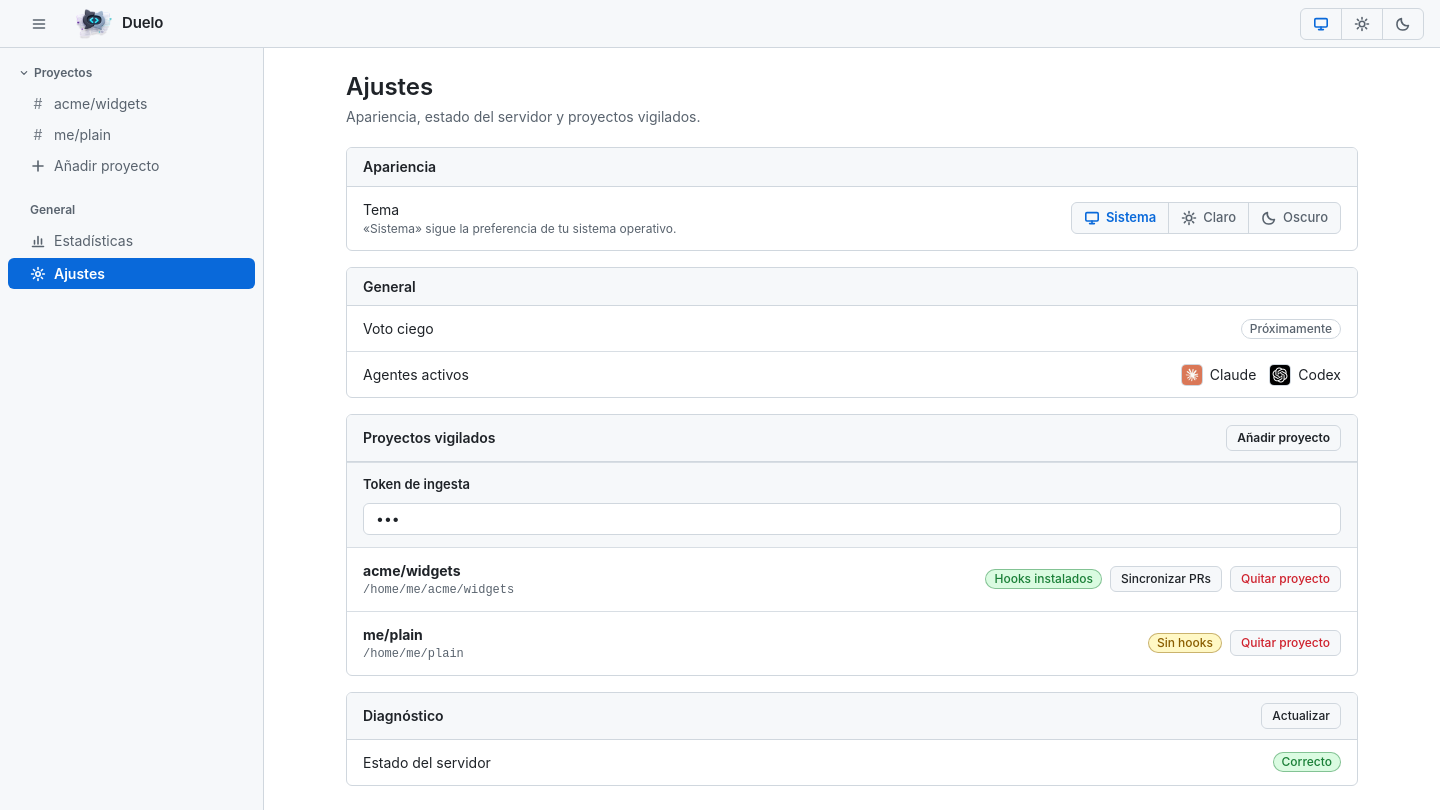
Test case: project settings › removes the project once confirmed and updates the list and the sidebar
Click the button with aria-label "Quitar proyecto acme/widgets": point(1286, 579) x1=1230 y1=566 x2=1341 y2=592
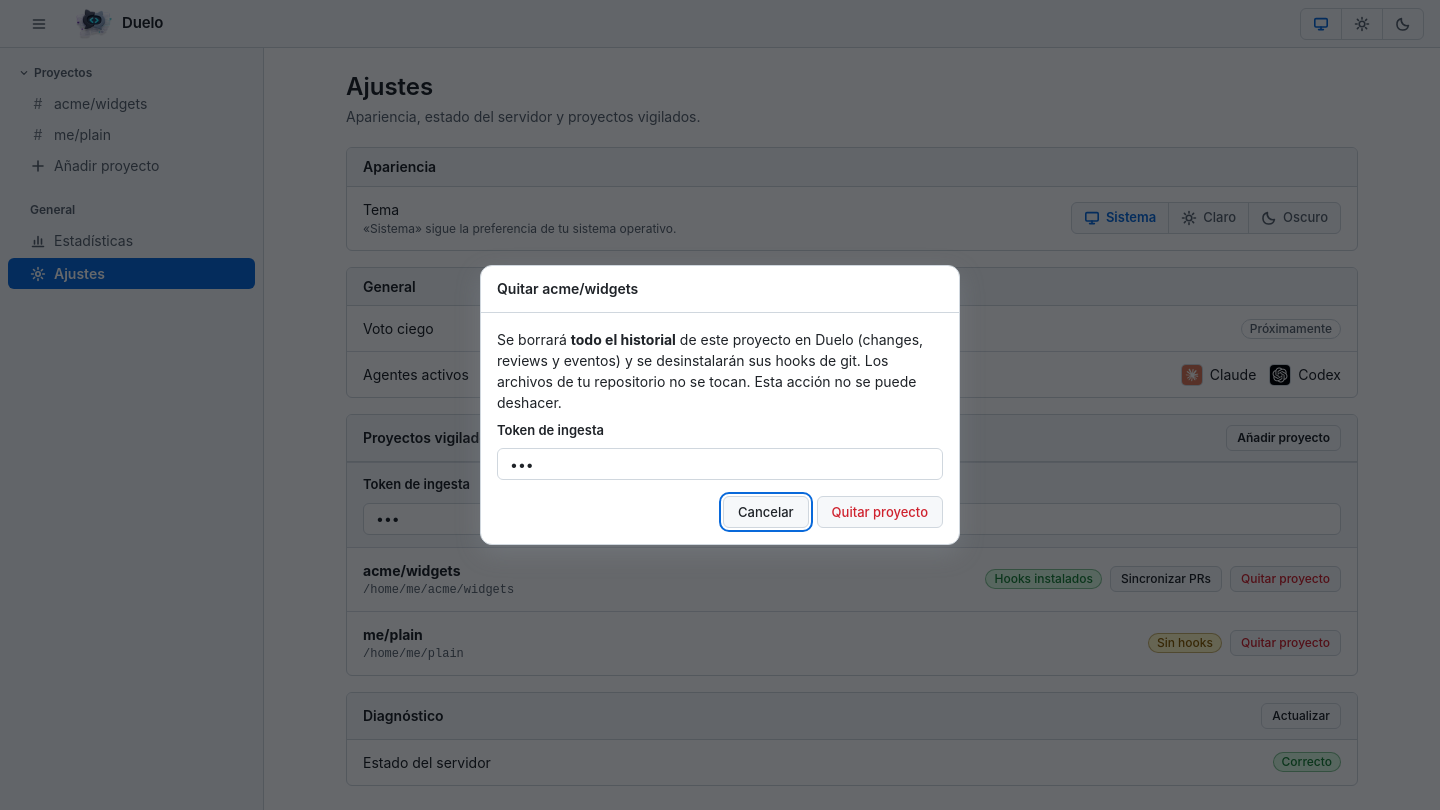
Click the button "Quitar proyecto": point(880, 512) x1=817 y1=496 x2=943 y2=528
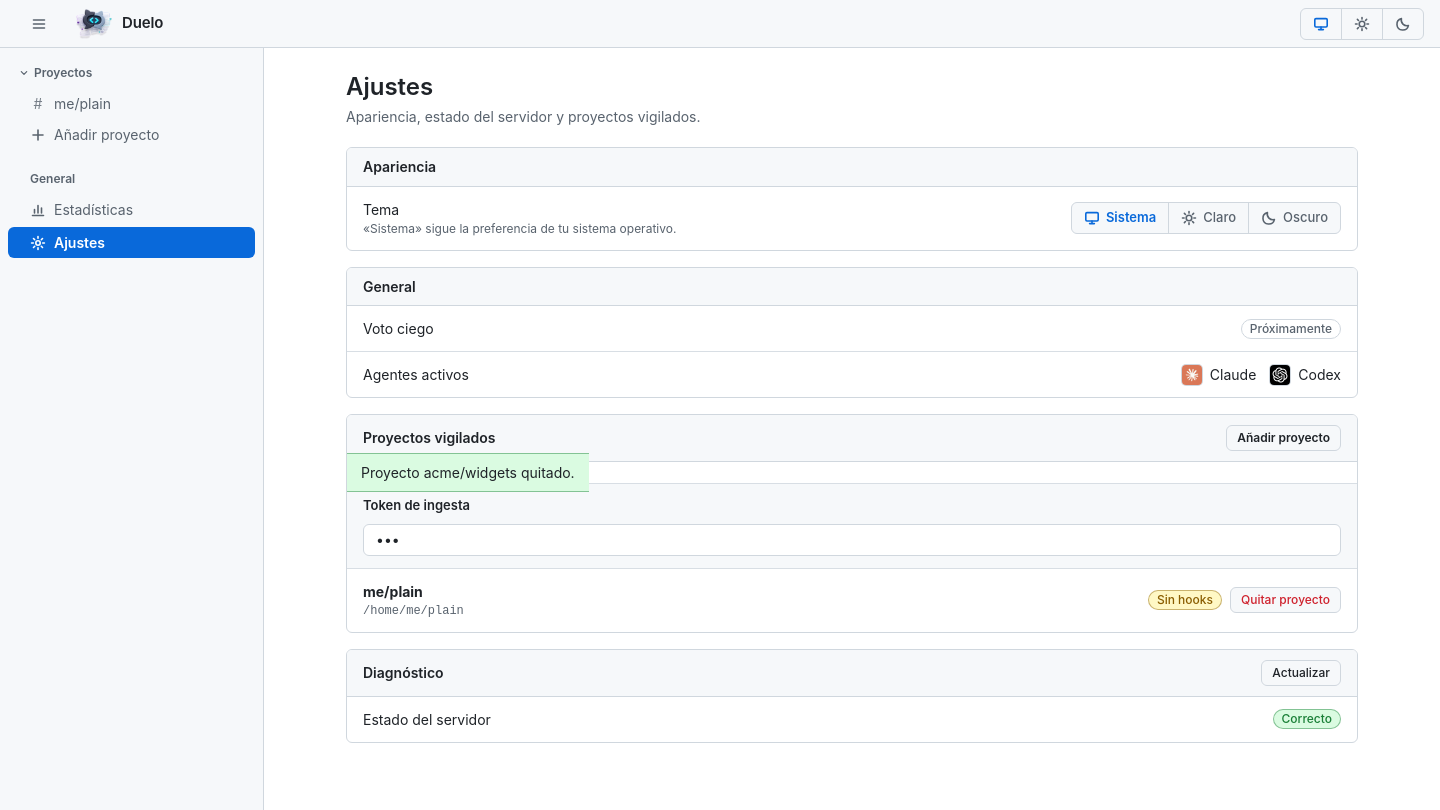
expect the link "# me/plain" is shown: met, box x1=34 y1=95 x2=111 y2=112
expect the text "Proyecto acme/widgets quitado." is shown: met, box x1=347 y1=453 x2=589 y2=492
